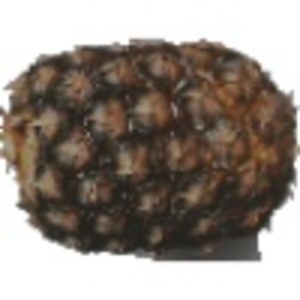abacaxi: (4, 33, 295, 252)
